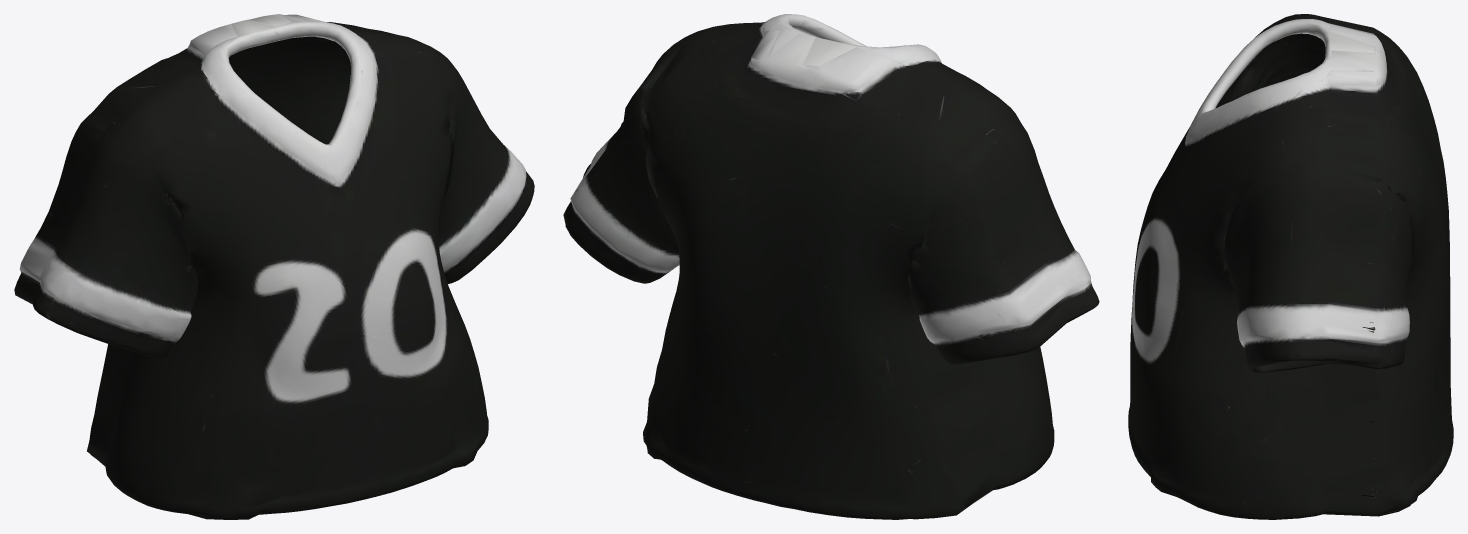
Rendered from Hirono Jersey.glb.
3 views of the same model, side by side, from view 1: azimuth 30°, elevation 25°; view 2: azimuth 150°, elevation 25°; view 3: azimuth 270°, elevation 25° (orthographic). The views are drawn at different scales.
Visible parts, largest first — view 1: jersey; view 2: jersey; view 3: jersey.
Boxes of the visible parts, left/top/right/bottom form: jersey: left=14, top=14, right=534, bottom=519; jersey: left=563, top=14, right=1099, bottom=519; jersey: left=1128, top=14, right=1453, bottom=519.
Size of the model in its own units: 0.4648 by 0.3674 by 0.2708.
Materials: 1 (1 with a texture image).
